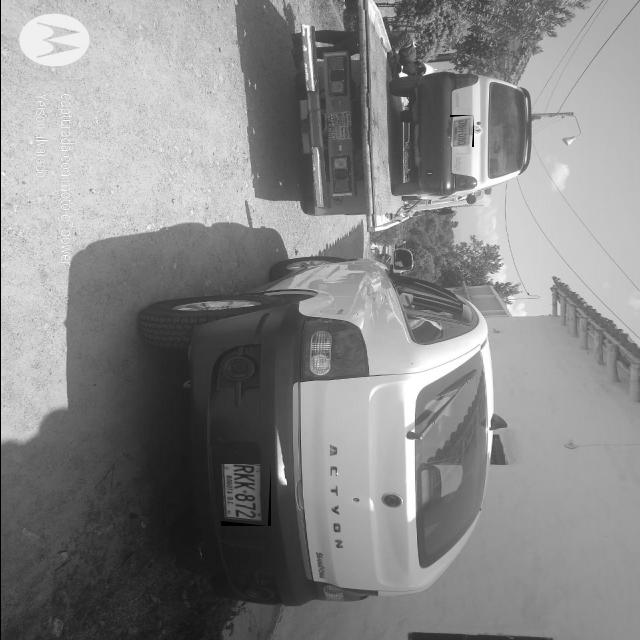plate: (220, 464, 270, 526), (448, 115, 472, 147)
